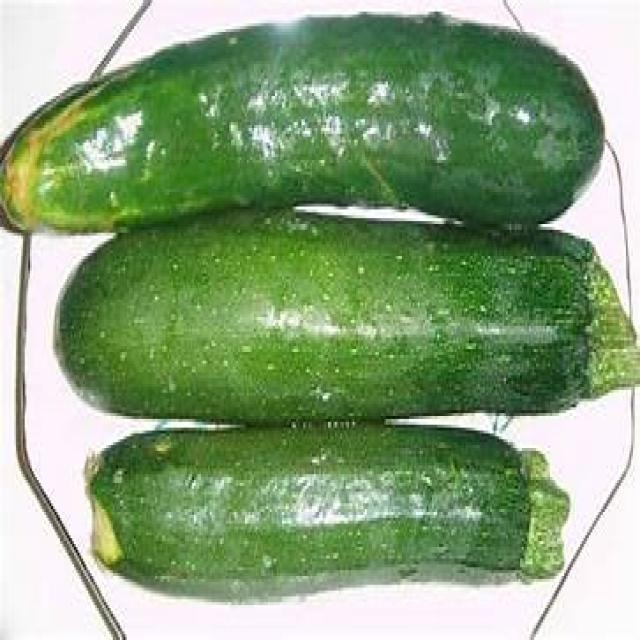Zucchini: (61, 233, 640, 411)
